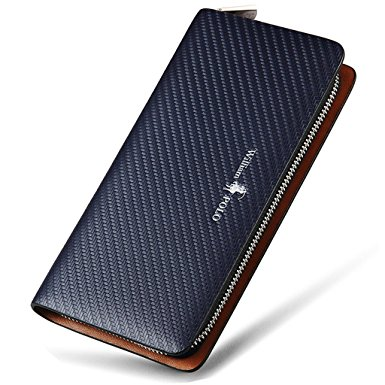monedero: (29, 5, 358, 373)
